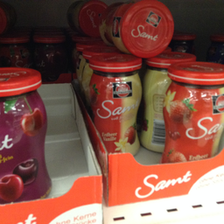jam: (1, 67, 54, 207), (161, 61, 224, 163), (88, 54, 143, 158), (99, 2, 175, 58)
